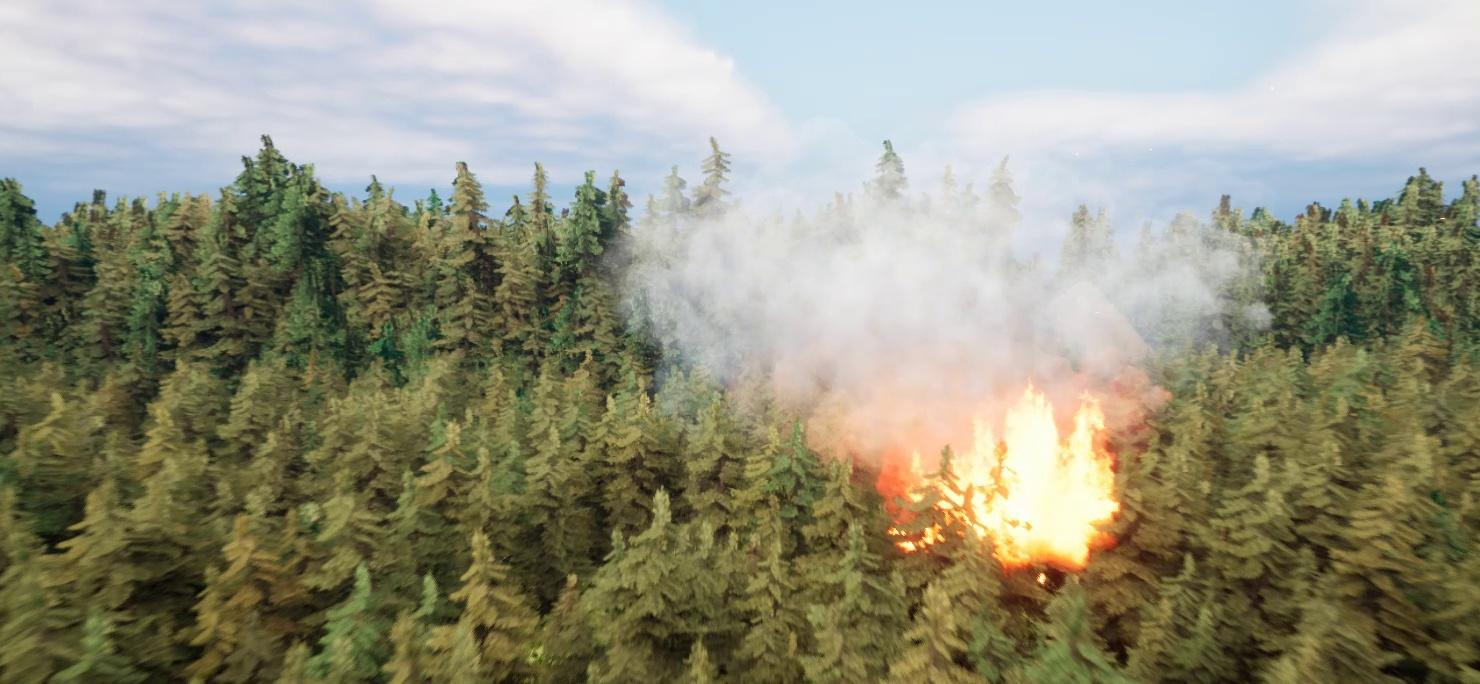fire: (882, 381, 1141, 573)
smoke: (623, 170, 1280, 475)
